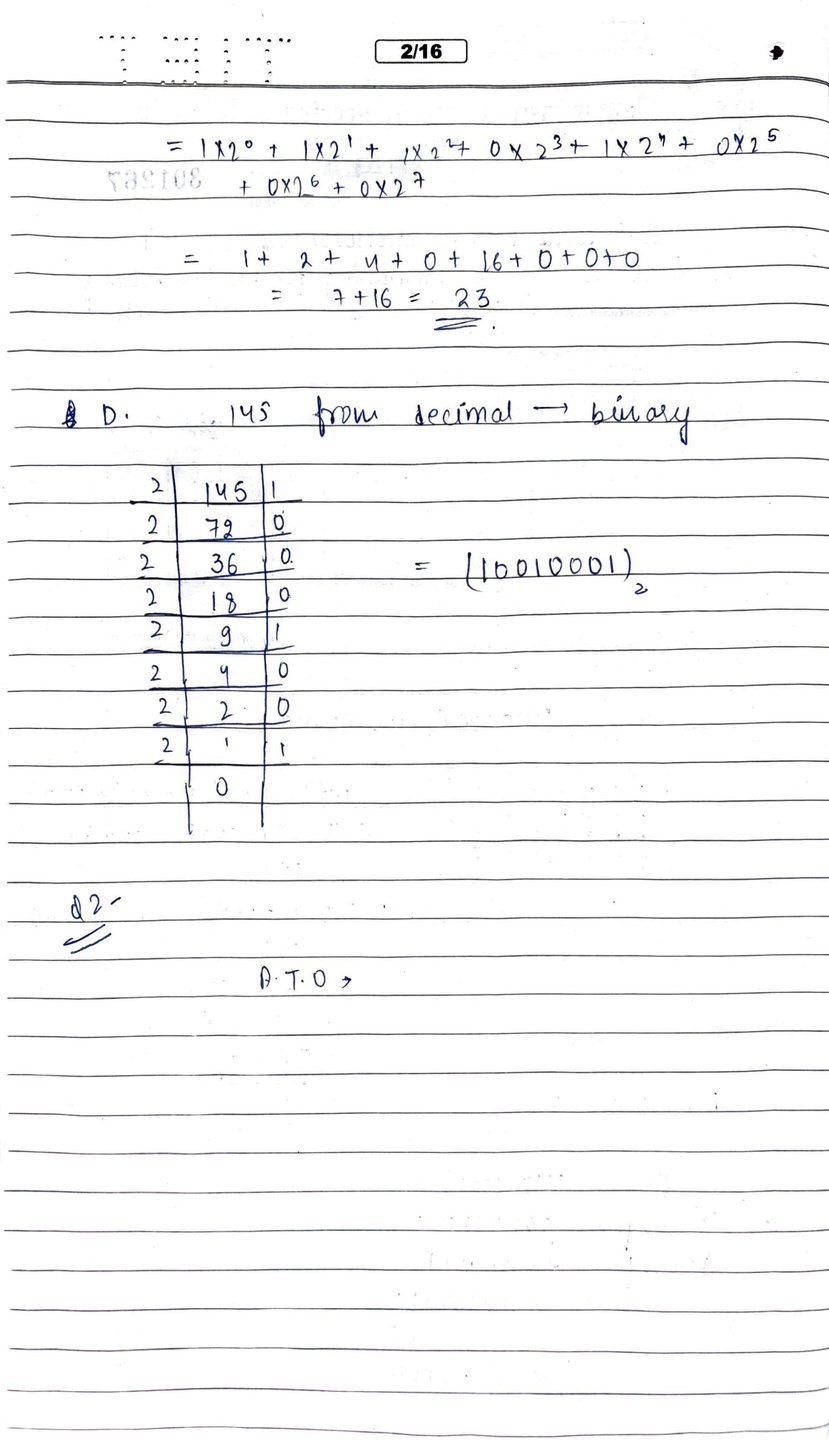cuttings: (61, 398, 79, 429)
